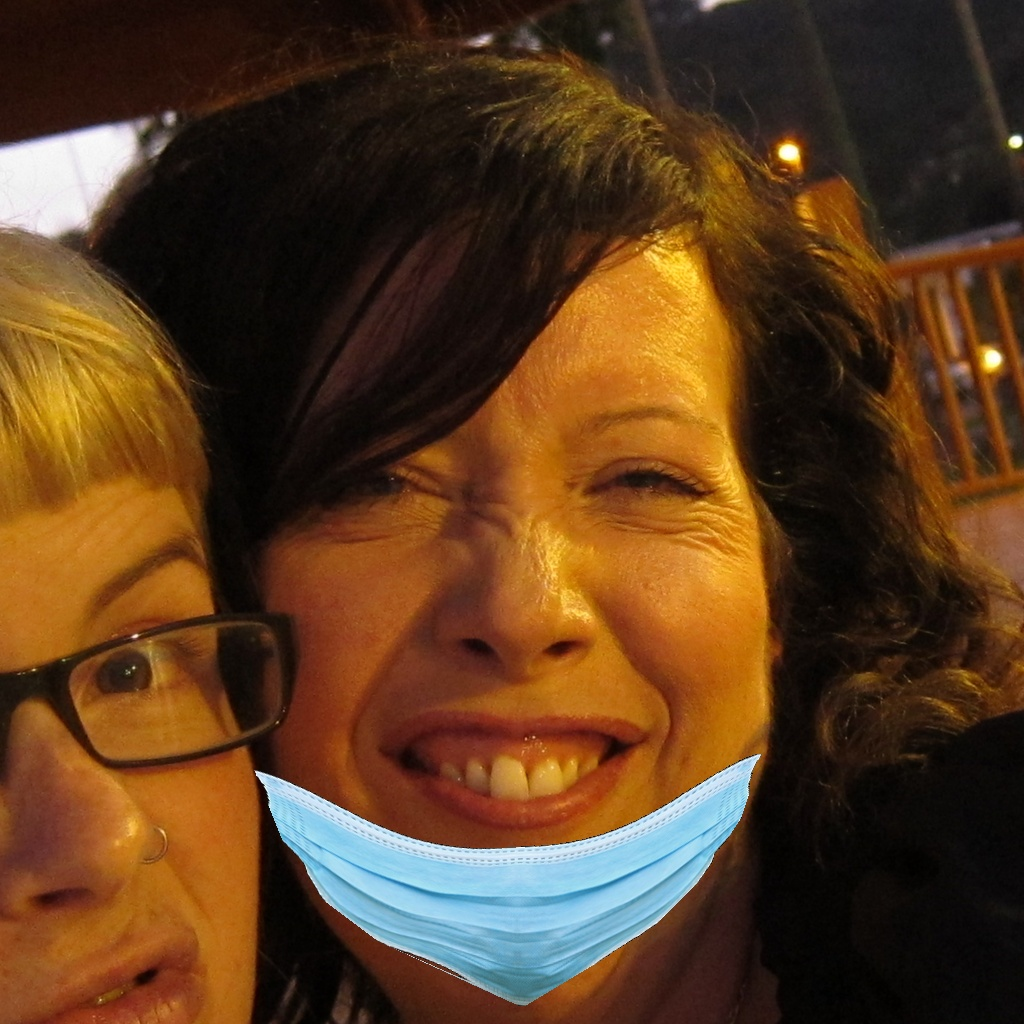mask_weared_incorrect: (215, 363, 806, 1016)
